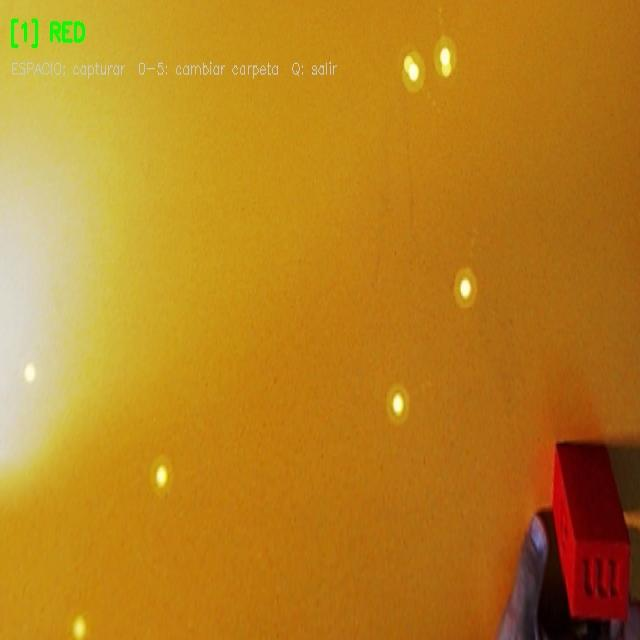red: (553, 444, 629, 617)
